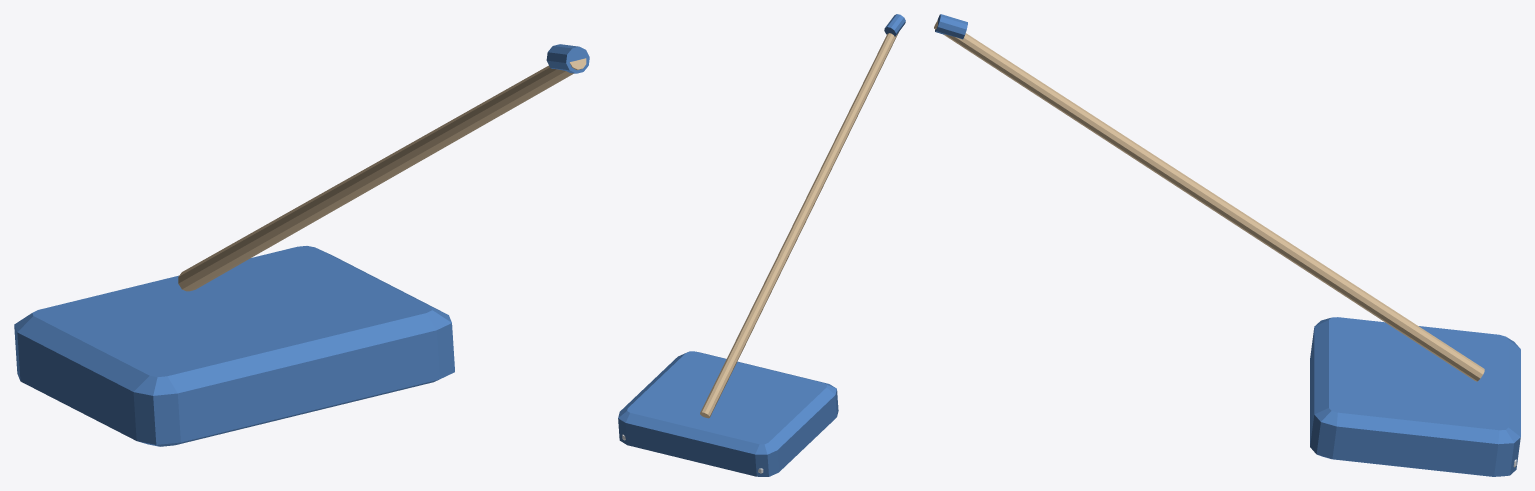
Rendered from ice-hockey-arena-and-locker-room-snow-shovel-d5dd276b__33708.glb.
3 views of the same model, side by side, from view 1: azimuth 30°, elevation 25°; view 2: azimuth 150°, elevation 25°; view 3: azimuth 270°, elevation 25° (orthographic). The views are drawn at different scales.
Parts seen in each view (by area): view 1: snow-shovel; view 2: snow-shovel; view 3: snow-shovel.
Boxes of the visible parts, x1,y1,x2,y2 form: snow-shovel: [14, 44, 589, 446]; snow-shovel: [618, 14, 905, 476]; snow-shovel: [934, 14, 1520, 476].
Size of the model in its own units: 0.56 by 1.01 by 1.3.
